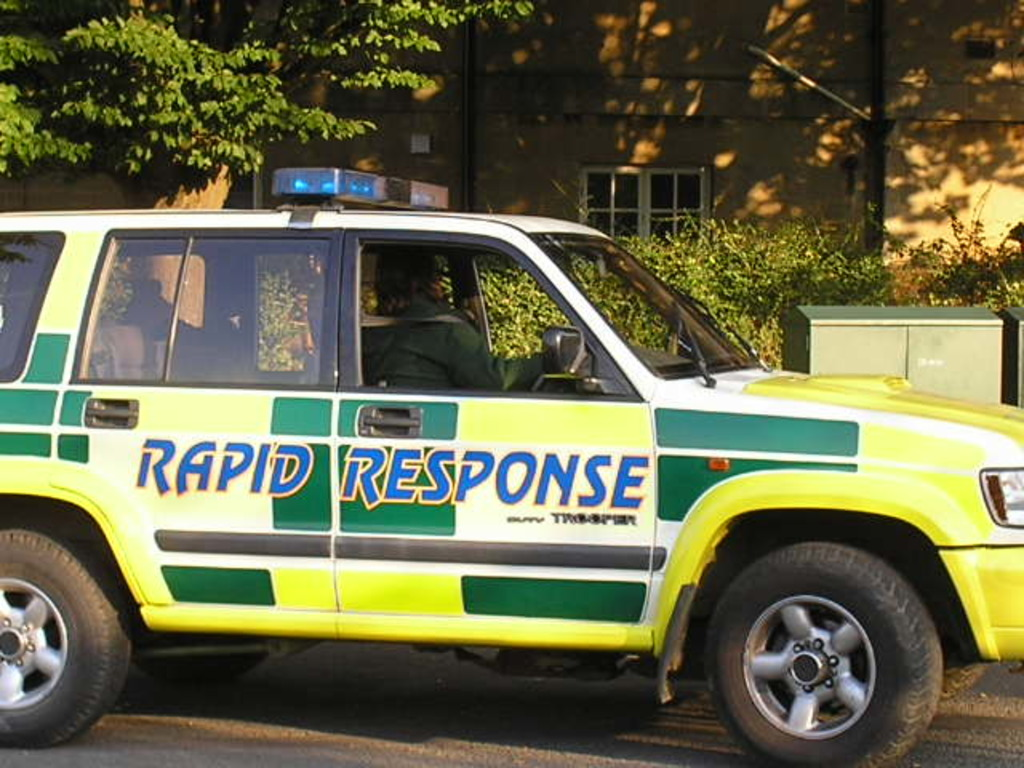mobil: (41, 195, 1024, 768)
